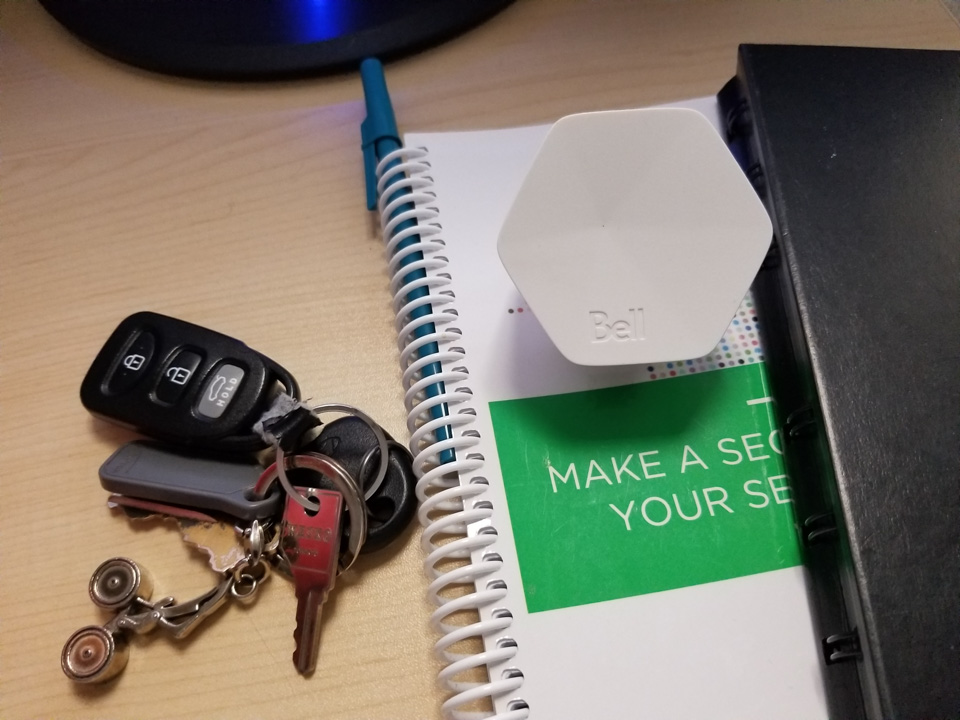pod: (491, 100, 780, 370)
